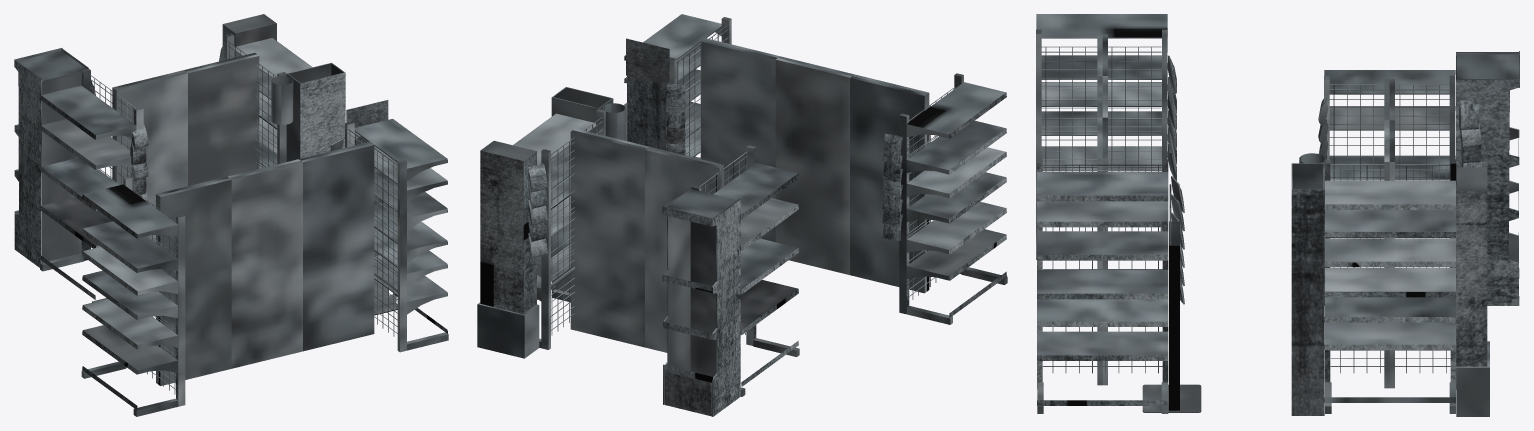
The model's file is store_96.obj.
3 views of the same model, side by side, from view 1: azimuth 30°, elevation 25°; view 2: azimuth 150°, elevation 25°; view 3: azimuth 270°, elevation 25° (orthographic). The views are drawn at different scales.
Bounding box in the file's own units: 197 × 118 × 217.
